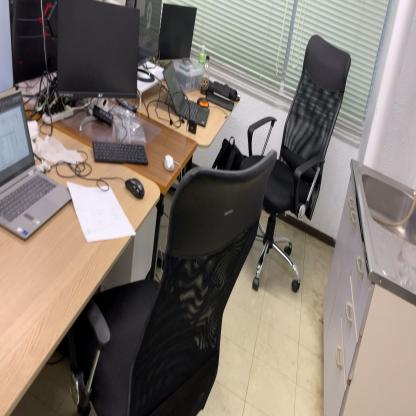chair: (69, 148, 277, 416), (249, 32, 354, 296)
